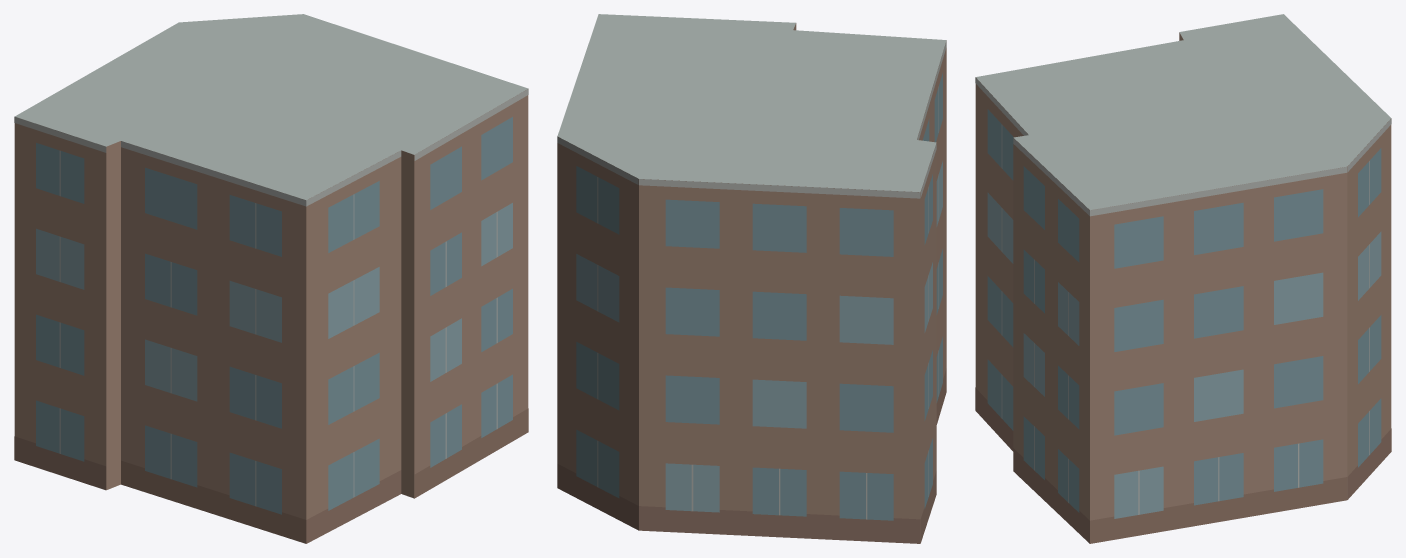
The model's file is survey-upis-32942450.glb.
The picture shows the model from 3 angles, left to right: view 1: azimuth 30°, elevation 25°; view 2: azimuth 150°, elevation 25°; view 3: azimuth 270°, elevation 25°; orthographic projection. The views are drawn at different scales.
Visible parts, largest first — view 1: survey-upis-32942450.tmp; view 2: survey-upis-32942450.tmp; view 3: survey-upis-32942450.tmp.
Part boxes in pixels (x1,y1,x2,y2): survey-upis-32942450.tmp: (14, 14, 528, 543); survey-upis-32942450.tmp: (557, 14, 946, 543); survey-upis-32942450.tmp: (975, 14, 1391, 543).
Size of the model in its own units: 16.77 by 13.29 by 15.02.
